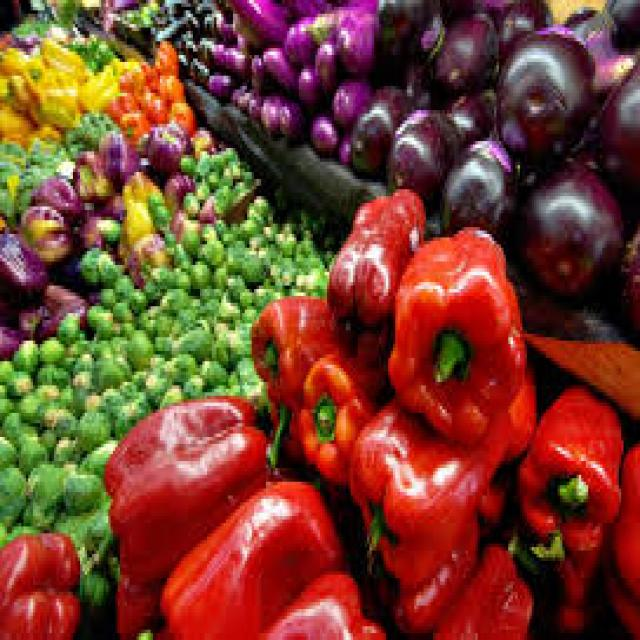organic waste: (348, 354, 532, 582), (158, 461, 346, 637), (104, 392, 264, 585), (386, 224, 522, 437), (358, 475, 478, 636), (515, 375, 621, 551), (324, 186, 424, 365), (515, 155, 621, 313), (494, 24, 593, 169), (59, 299, 247, 375), (296, 341, 391, 485), (504, 512, 604, 636), (0, 334, 106, 434), (181, 248, 252, 389), (426, 544, 534, 636), (252, 564, 381, 637), (584, 55, 638, 227), (0, 526, 80, 636), (250, 300, 334, 402), (598, 437, 638, 637), (198, 216, 327, 278), (440, 130, 513, 230), (565, 3, 635, 106), (386, 106, 456, 200), (348, 82, 412, 168), (207, 220, 273, 300), (433, 7, 492, 96), (0, 220, 47, 310), (118, 203, 172, 279), (494, 0, 548, 72), (377, 0, 447, 55), (275, 220, 325, 296), (19, 48, 73, 117), (332, 0, 379, 79), (115, 564, 165, 637), (38, 278, 92, 340), (614, 203, 638, 337), (266, 385, 303, 468), (19, 203, 73, 258), (31, 172, 82, 227), (468, 468, 508, 537), (64, 107, 118, 158), (444, 86, 496, 138), (225, 0, 289, 41), (303, 0, 378, 34), (327, 72, 372, 128), (146, 117, 188, 175), (31, 34, 87, 76), (162, 168, 195, 238), (26, 461, 61, 527), (23, 138, 73, 179), (70, 62, 110, 113), (167, 320, 212, 365), (398, 52, 435, 106), (73, 148, 111, 200), (198, 31, 245, 72), (97, 127, 134, 179), (282, 10, 316, 66), (158, 162, 193, 216), (602, 0, 638, 52), (80, 509, 111, 568), (0, 155, 28, 220), (144, 34, 174, 93), (207, 3, 249, 45), (16, 158, 56, 200), (118, 165, 158, 207), (0, 461, 24, 530), (63, 468, 99, 513), (261, 45, 294, 93), (151, 10, 195, 45), (313, 38, 343, 89), (0, 72, 40, 110), (73, 409, 108, 451), (0, 103, 38, 141), (113, 396, 148, 437), (70, 31, 110, 65), (306, 103, 336, 148), (120, 324, 148, 372), (78, 561, 108, 605), (174, 323, 210, 358), (103, 86, 139, 120), (162, 348, 193, 386), (75, 437, 113, 468), (165, 93, 193, 134), (198, 62, 230, 96), (7, 14, 47, 41), (94, 354, 127, 386), (231, 7, 261, 41), (214, 327, 240, 365), (226, 351, 249, 392), (247, 79, 266, 127), (0, 44, 28, 76), (24, 120, 61, 144), (0, 316, 21, 358), (275, 96, 299, 131), (106, 52, 134, 82), (120, 110, 144, 145), (134, 90, 162, 120), (16, 299, 40, 334), (238, 244, 264, 276), (332, 127, 353, 165), (259, 90, 280, 128), (294, 62, 313, 103), (75, 244, 99, 276), (186, 120, 209, 152), (146, 189, 167, 224), (52, 0, 78, 28), (282, 0, 330, 14), (174, 24, 198, 52), (94, 210, 118, 237), (158, 0, 188, 21), (186, 0, 216, 21), (94, 248, 115, 278), (190, 148, 210, 179), (178, 223, 198, 254), (195, 192, 214, 224), (115, 62, 134, 93), (156, 72, 177, 100), (212, 186, 230, 217), (238, 76, 254, 110), (247, 189, 266, 217), (247, 48, 264, 79), (153, 265, 172, 292), (0, 430, 16, 461), (210, 145, 228, 172), (174, 237, 191, 265), (184, 52, 200, 79), (221, 141, 238, 165), (202, 169, 222, 189), (141, 268, 155, 296), (219, 168, 235, 192), (172, 265, 188, 289), (78, 282, 99, 300), (0, 144, 19, 162), (179, 148, 193, 172), (115, 268, 127, 296), (127, 289, 141, 313), (235, 165, 252, 182), (172, 45, 184, 69), (231, 79, 240, 107), (134, 10, 148, 28), (122, 0, 132, 21), (134, 0, 153, 10)
